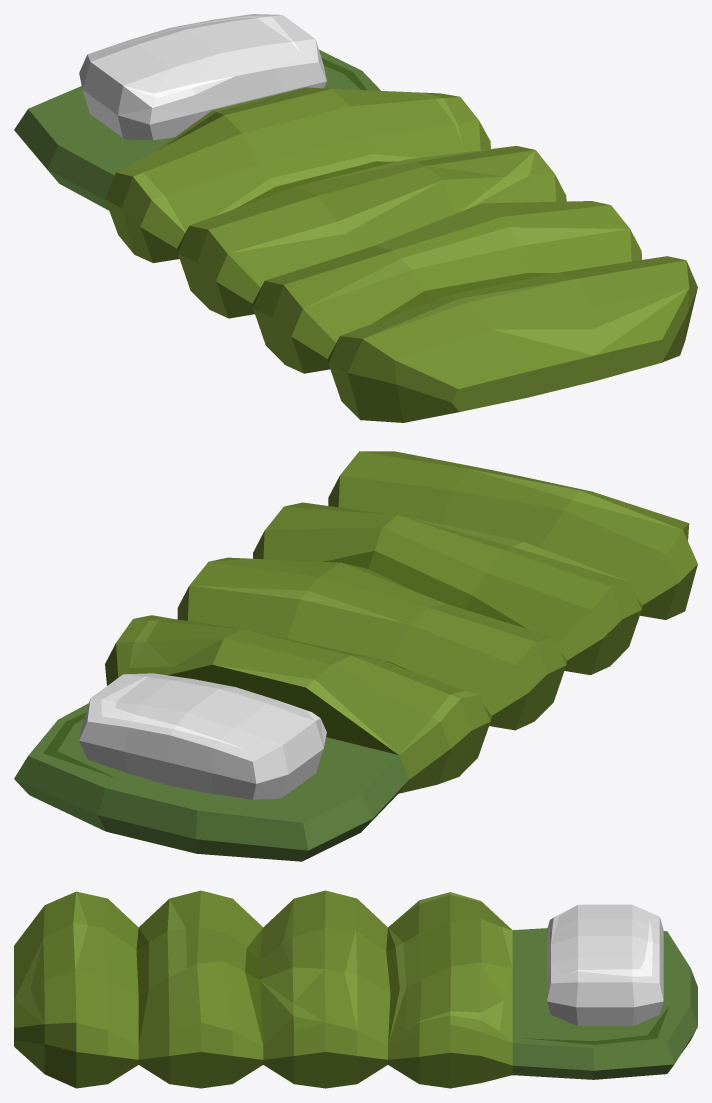
The model's file is mesh_sleepingbag.fbx.
The picture shows the model from 3 angles, top to bottom: view 1: azimuth 30°, elevation 25°; view 2: azimuth 150°, elevation 25°; view 3: azimuth 270°, elevation 25°; orthographic projection. The views are drawn at different scales.
Visible parts, largest first — view 1: mesh_sleepingbag; view 2: mesh_sleepingbag; view 3: mesh_sleepingbag.
Part boxes in pixels (<box>): mesh_sleepingbag: <box>14,14,697,422</box>; mesh_sleepingbag: <box>14,451,697,861</box>; mesh_sleepingbag: <box>14,890,697,1088</box>.
Size of the model in its own units: 0.6957 by 0.2079 by 1.42.
